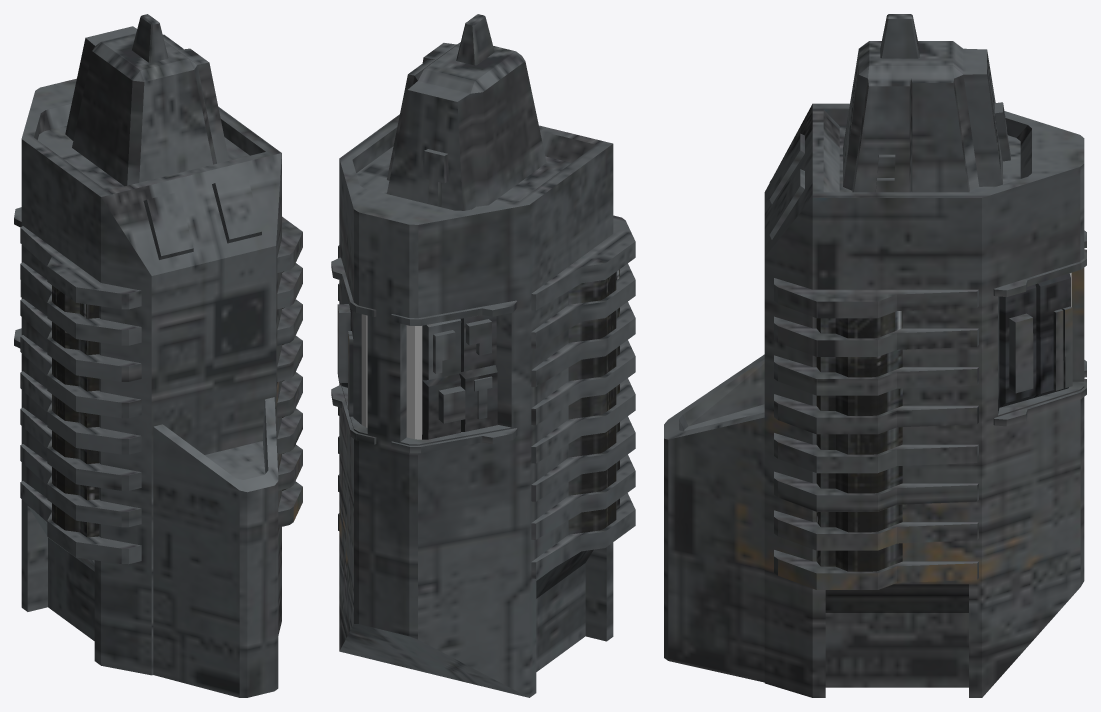
Rendered from Peca5.fbx.
3 views of the same model, side by side, from view 1: azimuth 30°, elevation 25°; view 2: azimuth 150°, elevation 25°; view 3: azimuth 270°, elevation 25° (orthographic). The views are drawn at different scales.
Parts seen in each view (by area): view 1: polySurface15; view 2: polySurface15; view 3: polySurface15.
Boxes of the visible parts, bbox=[...] form: polySurface15: bbox=[14, 14, 302, 697]; polySurface15: bbox=[331, 14, 635, 697]; polySurface15: bbox=[664, 14, 1086, 697].
Size of the model in its own units: 4.87 by 12.22 by 7.37.
